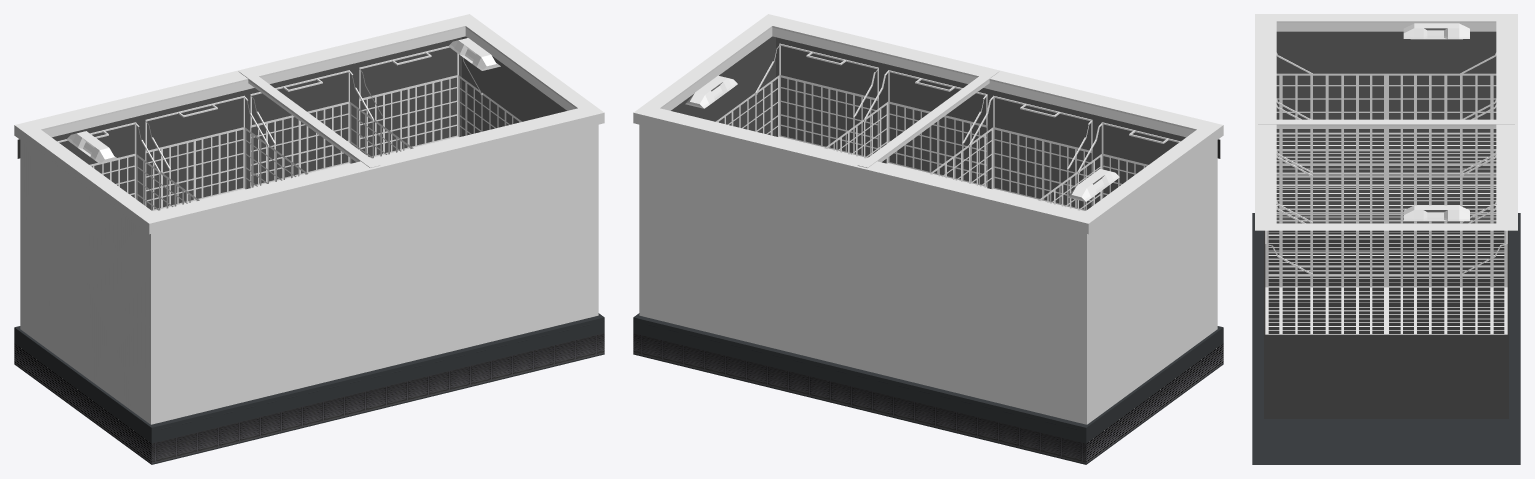
File: ChestRefrigerator.glb
The picture shows the model from 3 angles, left to right: view 1: azimuth 30°, elevation 25°; view 2: azimuth 150°, elevation 25°; view 3: azimuth 270°, elevation 25°; orthographic projection. The views are drawn at different scales.
Parts seen in each view (by area): view 1: ChestRefrigerator; view 2: ChestRefrigerator; view 3: ChestRefrigerator.
Boxes of the visible parts, box(x1,y1,x2,y2) form: ChestRefrigerator: box(14, 14, 604, 464); ChestRefrigerator: box(633, 14, 1223, 464); ChestRefrigerator: box(1252, 14, 1520, 464).
Bounding box in the file's own units: 1.77 × 0.9163 × 0.9257.
4 materials, 1 textured.
